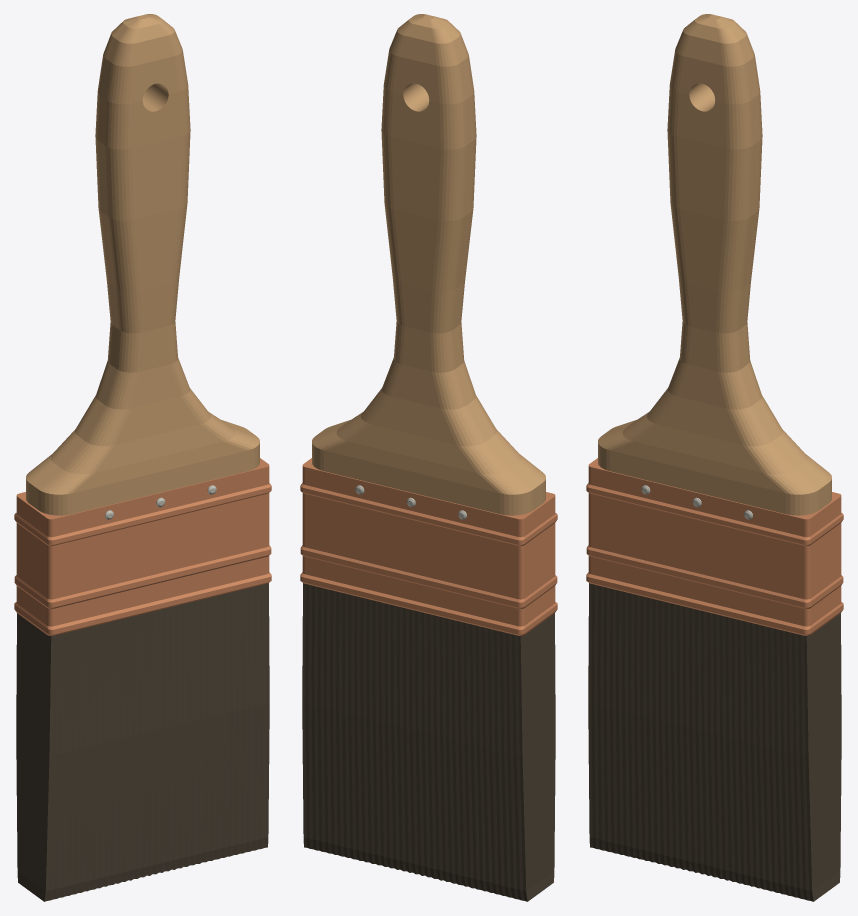
3 renders of one model, left to right at view 1: azimuth 30°, elevation 25°; view 2: azimuth 150°, elevation 25°; view 3: azimuth 330°, elevation 25°, orthographic.
Visible parts, largest first — view 1: Closed_finite_synthetic_bristle_bundle_with_restrained_fluti, Pierced_beavertail_hardwood_handle, Closed_copper_ferrule_with_rolled_horizontal_ribs; view 2: Closed_finite_synthetic_bristle_bundle_with_restrained_fluti, Pierced_beavertail_hardwood_handle, Closed_copper_ferrule_with_rolled_horizontal_ribs; view 3: Closed_finite_synthetic_bristle_bundle_with_restrained_fluti, Pierced_beavertail_hardwood_handle, Closed_copper_ferrule_with_rolled_horizontal_ribs.
Boxes of the visible parts, <box> form: Closed_finite_synthetic_bristle_bundle_with_restrained_fluti: <box>16,583,269,901</box>; Pierced_beavertail_hardwood_handle: <box>26,14,259,515</box>; Closed_copper_ferrule_with_rolled_horizontal_ribs: <box>14,458,271,635</box>; Closed_finite_synthetic_bristle_bundle_with_restrained_fluti: <box>302,583,555,901</box>; Pierced_beavertail_hardwood_handle: <box>312,14,545,515</box>; Closed_copper_ferrule_with_rolled_horizontal_ribs: <box>300,458,557,635</box>; Closed_finite_synthetic_bristle_bundle_with_restrained_fluti: <box>588,583,841,901</box>; Pierced_beavertail_hardwood_handle: <box>598,14,831,515</box>; Closed_copper_ferrule_with_rolled_horizontal_ribs: <box>586,458,843,635</box>.
Bounding box in the file's own units: 0.0762 × 0.2762 × 0.0222.
